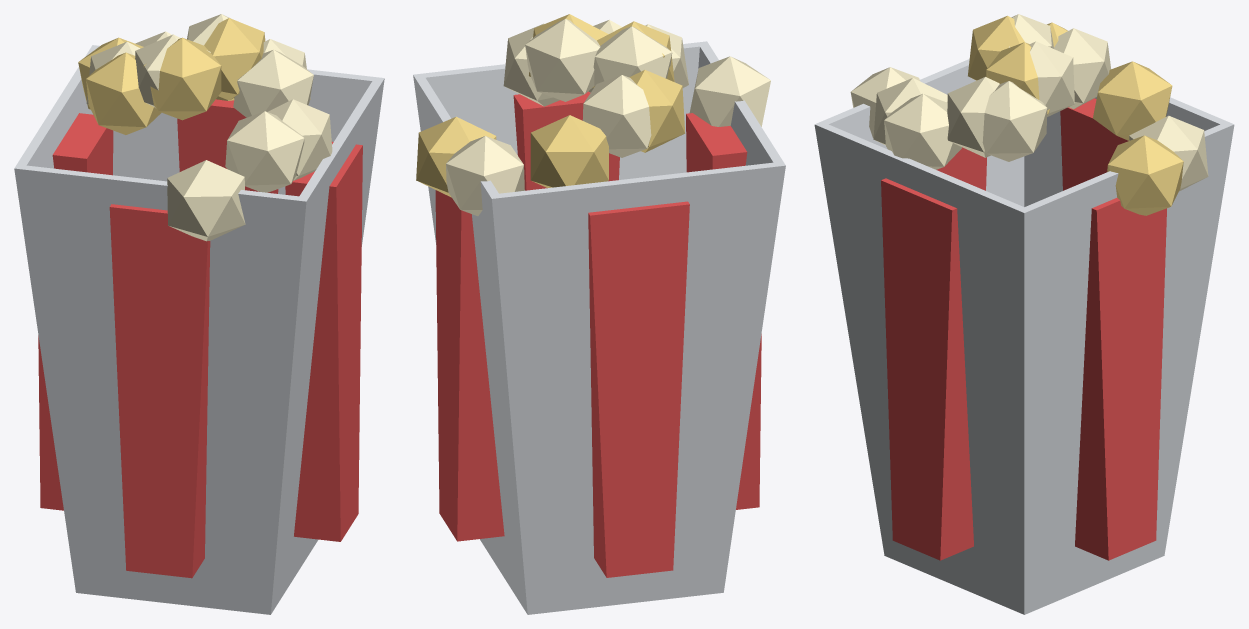
Rendered from popcorn.glb.
3 views of the same model, side by side, from view 1: azimuth 30°, elevation 25°; view 2: azimuth 150°, elevation 25°; view 3: azimuth 270°, elevation 25° (orthographic). The views are drawn at different scales.
Visible parts, largest first — view 1: popcorn; view 2: popcorn; view 3: popcorn.
Boxes of the visible parts, <box> form: popcorn: <box>14,14,384,614</box>; popcorn: <box>413,14,785,614</box>; popcorn: <box>814,14,1234,614</box>.
Bounding box in the file's own units: 0.15 × 0.208 × 0.15.
